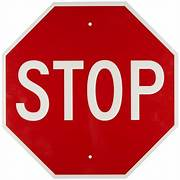stop: (1, 2, 180, 177)
